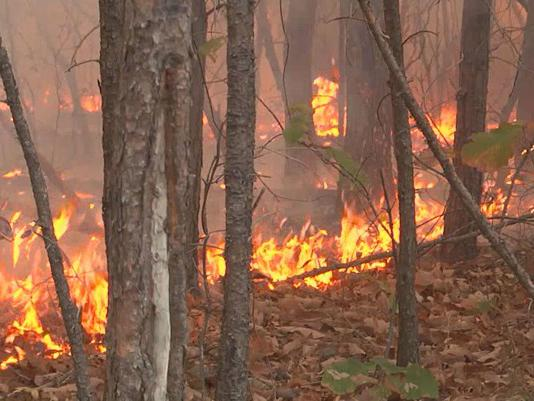fire: (2, 156, 112, 360), (251, 181, 437, 285), (296, 67, 345, 140), (423, 99, 462, 143), (198, 227, 229, 280)
